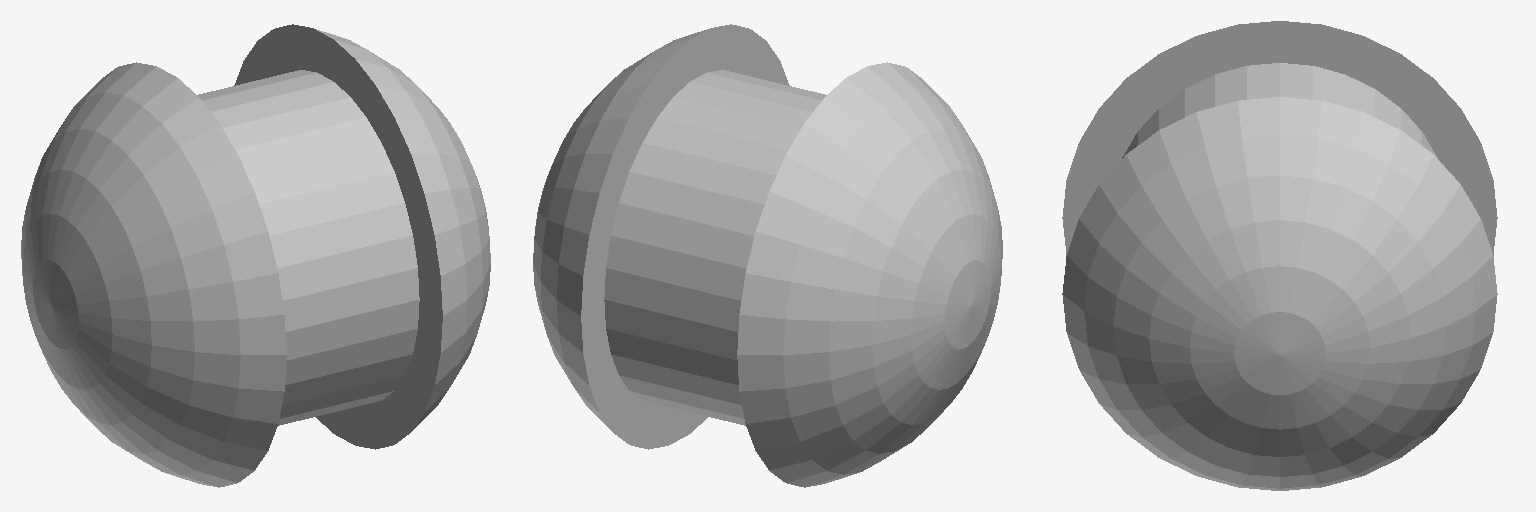
Rendered from heli_turret.obj.
3 renders of one model, left to right at view 1: azimuth 30°, elevation 25°; view 2: azimuth 150°, elevation 25°; view 3: azimuth 270°, elevation 25°, orthographic.
Visible parts, largest first — view 1: Sphere; view 2: Sphere; view 3: Sphere.
Boxes of the visible parts, x1=… form: Sphere: x1=21, y1=24, x2=490, y2=487; Sphere: x1=533, y1=24, x2=1002, y2=487; Sphere: x1=1062, y1=21, x2=1497, y2=490.
Bounding box in the file's own units: 0.0953 × 0.088 × 0.088.